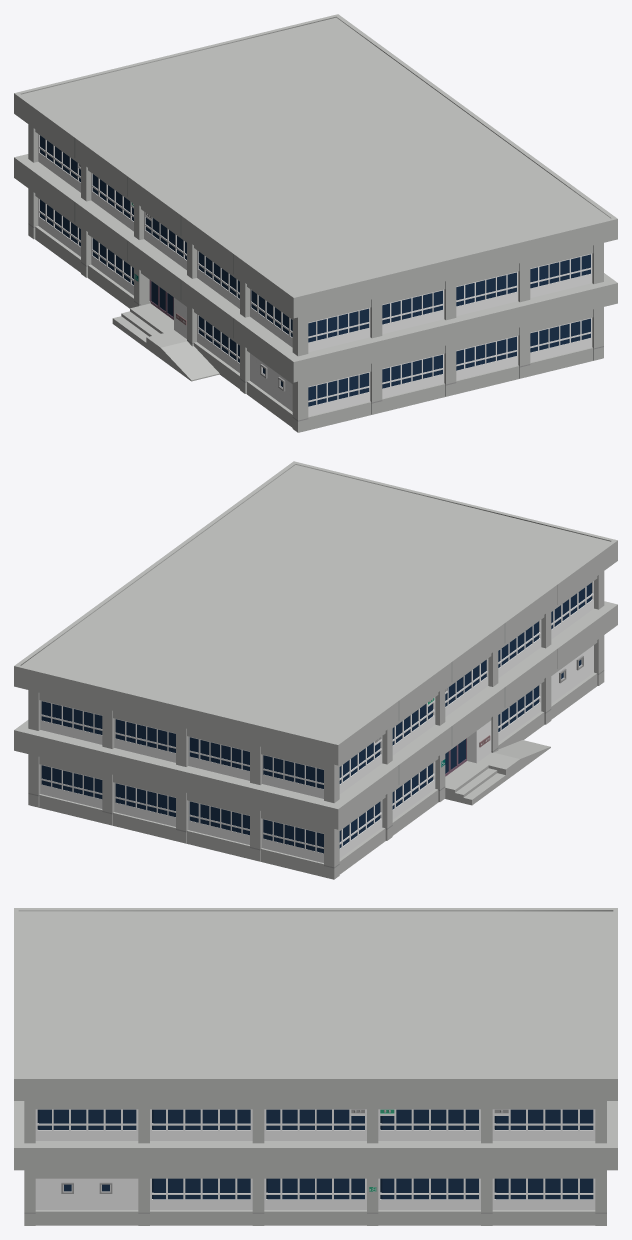
File: Building_B.fbx
3 renders of one model, top to bottom at view 1: azimuth 30°, elevation 25°; view 2: azimuth 150°, elevation 25°; view 3: azimuth 270°, elevation 25°, orthographic. The views are drawn at different scales.
Visible parts, largest first — view 1: Building_B; view 2: Building_B; view 3: Building_B.
Boxes of the visible parts, x1=… form: Building_B: x1=14, y1=14, x2=617, y2=432; Building_B: x1=14, y1=461, x2=617, y2=879; Building_B: x1=14, y1=908, x2=617, y2=1225.
Size of the model in its own units: 20.2 by 7.97 by 28.63.
